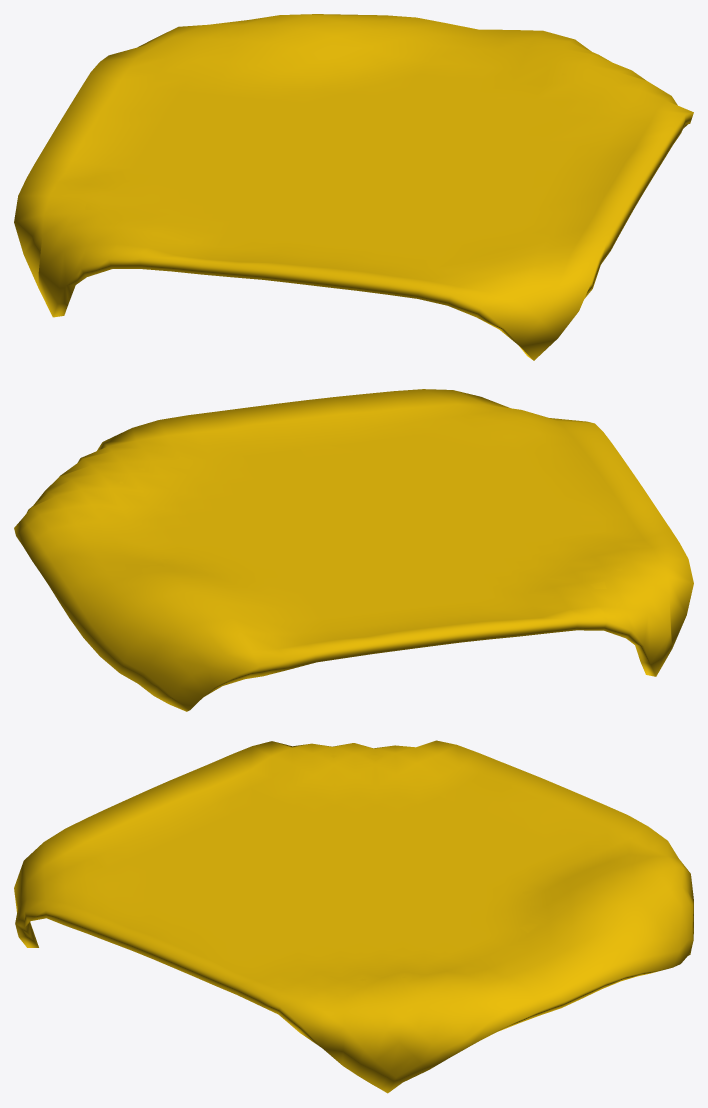
The model's file is bun_cheese.glb.
3 views of the same model, one above another, from view 1: azimuth 30°, elevation 25°; view 2: azimuth 150°, elevation 25°; view 3: azimuth 270°, elevation 25° (orthographic). The views are drawn at different scales.
Parts seen in each view (by area): view 1: bun_cheese; view 2: bun_cheese; view 3: bun_cheese.
Part boxes in pixels (x1,y1,x2,y2): bun_cheese: (14, 14, 693, 360); bun_cheese: (14, 389, 693, 711); bun_cheese: (14, 740, 693, 1093).
Bounding box in the file's own units: 0.6372 × 0.1003 × 0.634.
